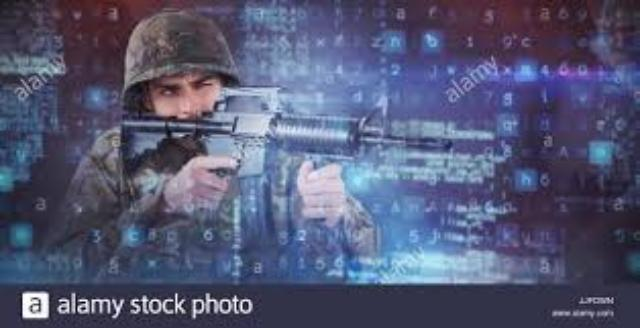other: (96, 8, 276, 230)
